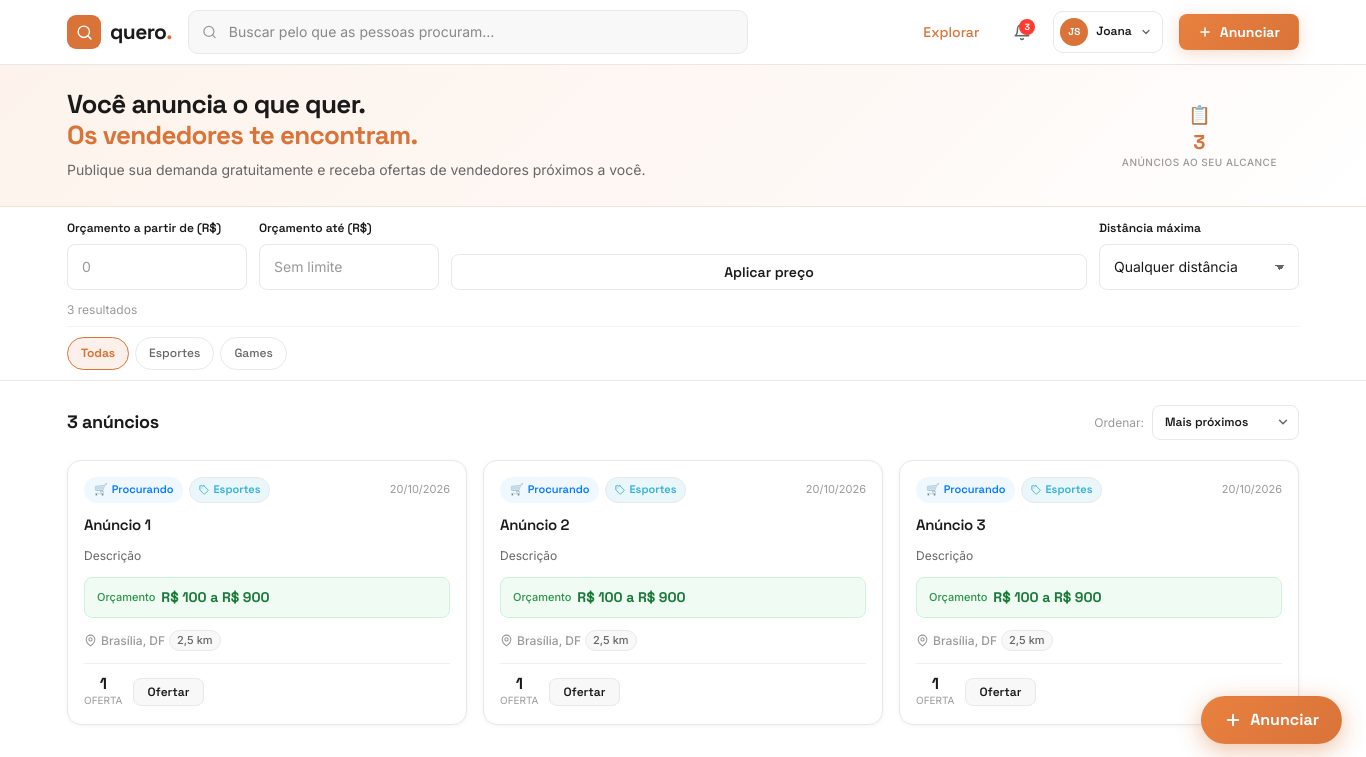
feed de anúncios (API) › recusa faixa de preço invertida sem buscar
This screenshot has width=1366, height=757.
expect the heading "3 anúncios" is shown: met, box [67,411,159,434]
Type "500" into the field labelled "Orçamento a partir de (R$)" at (157, 267), box [67,244,247,290]
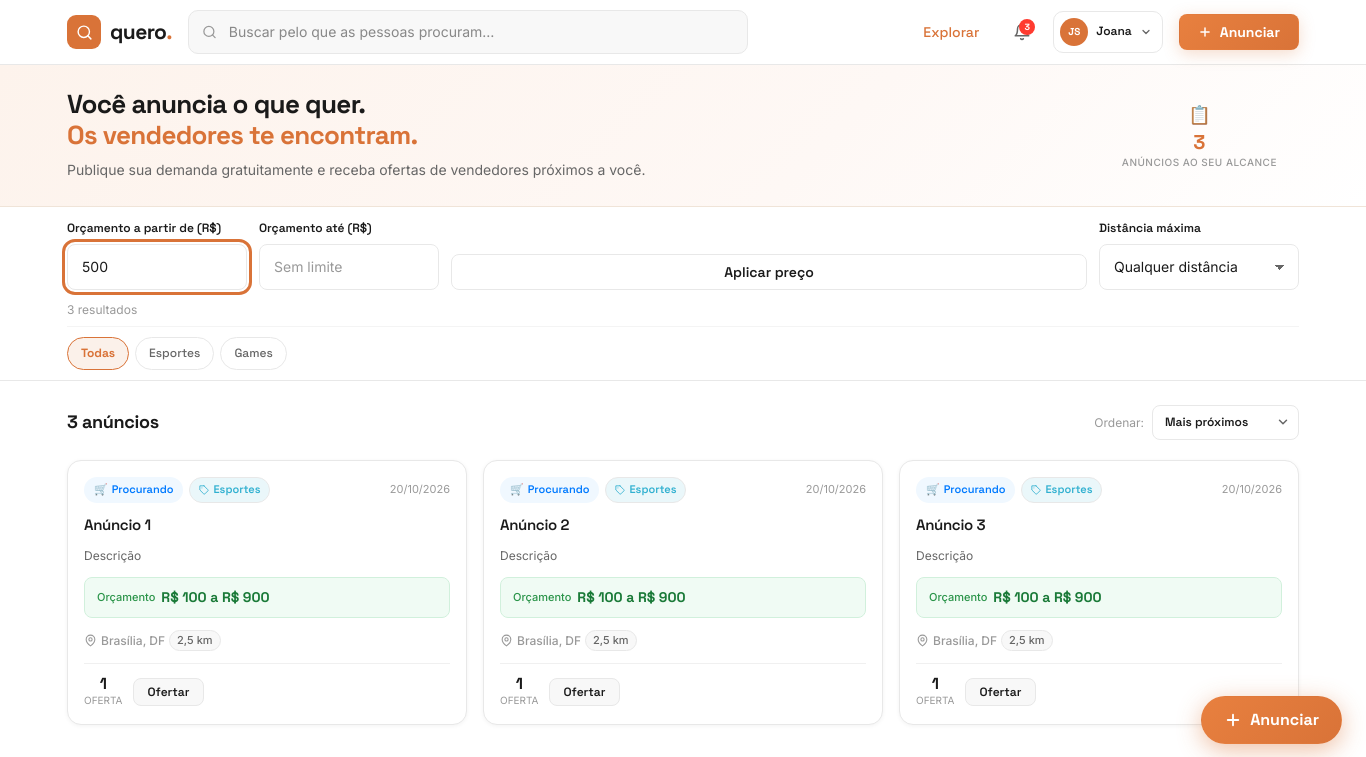
Type "100" into the field labelled "Orçamento até (R$)" at (349, 267), box [259,244,439,290]
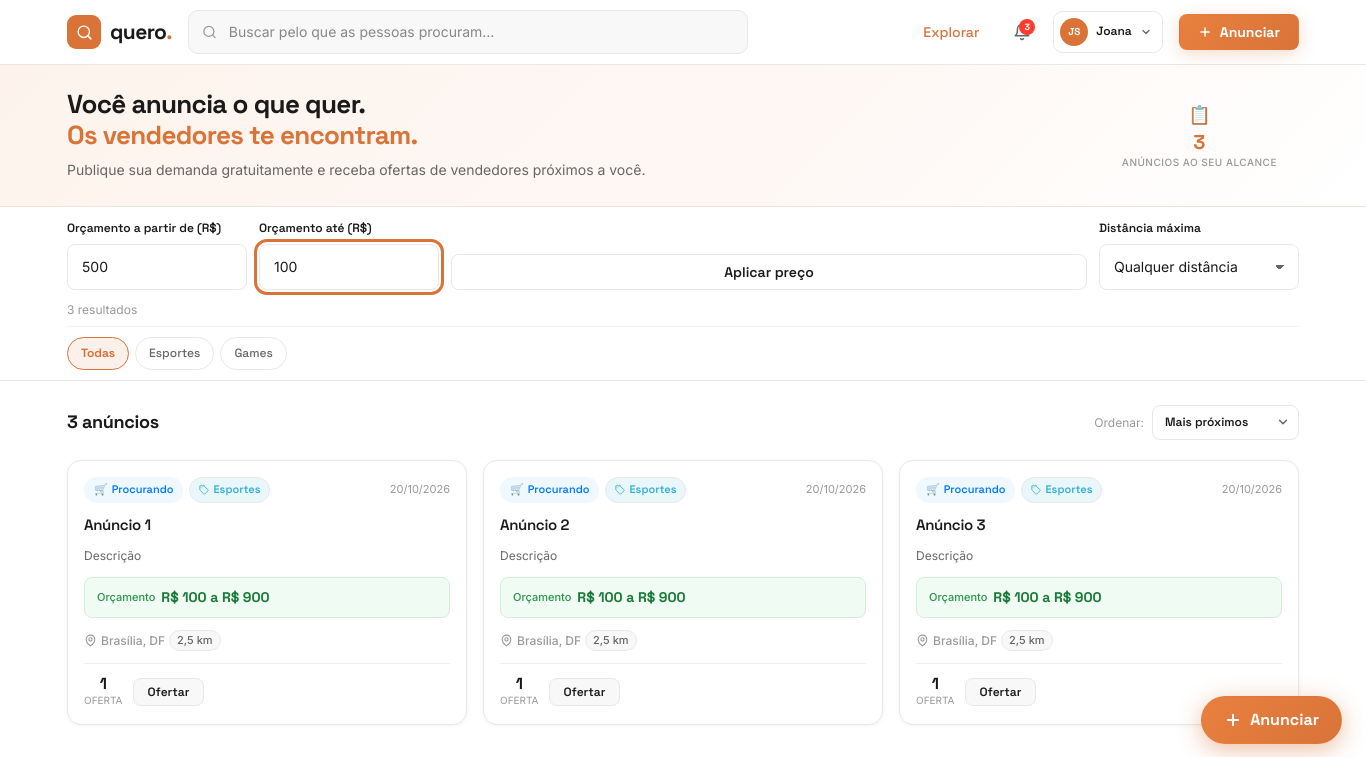
Click the button "Aplicar preço" at (769, 272), box [451,254,1087,290]
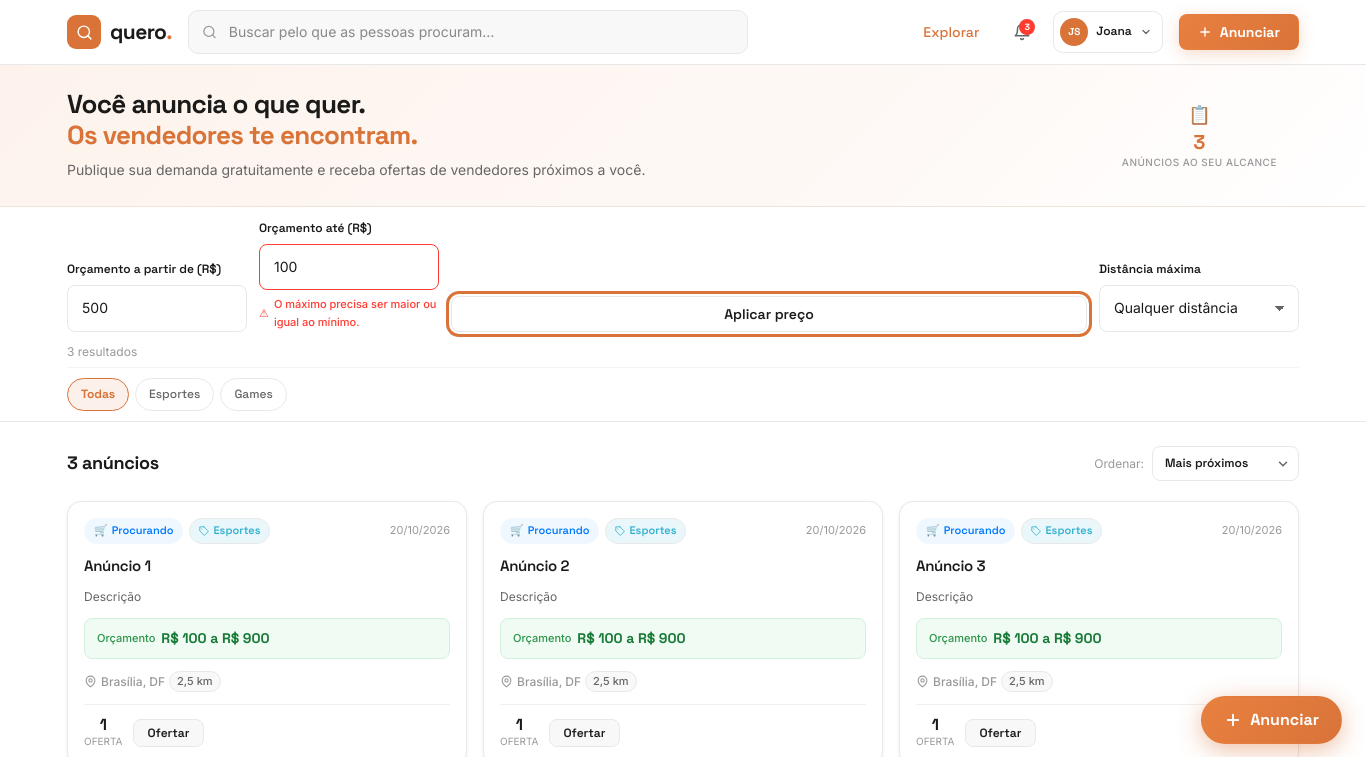
expect the text "O máximo precisa ser maior ou igual ao mínimo." is shown: met, box [274,297,436,329]
